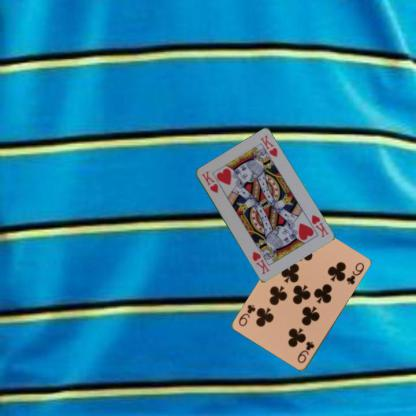9c: (294, 339, 315, 365)
Kh: (308, 212, 330, 239), (198, 168, 219, 194)
